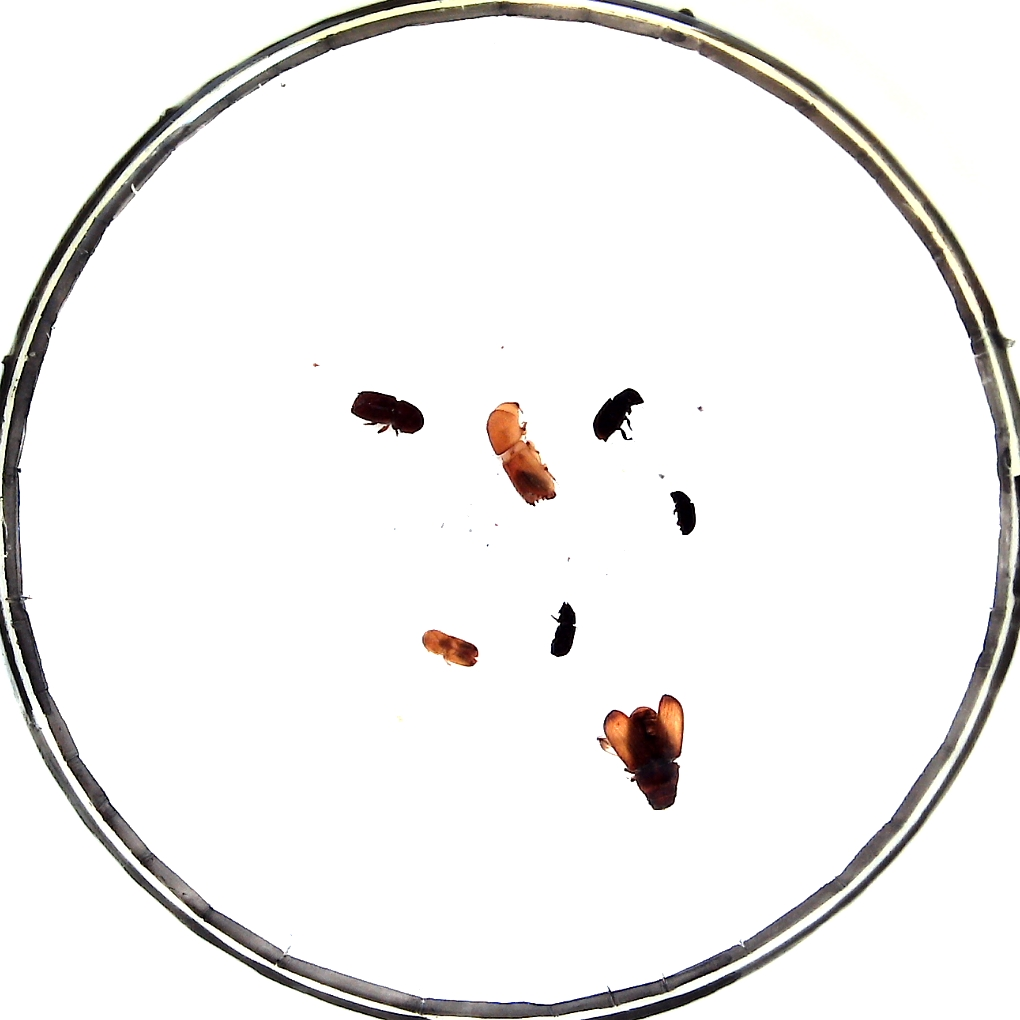Boerner: (486, 400, 555, 506)
Leconte: (602, 693, 687, 815)
Linnaeus: (350, 387, 425, 437)
acuminatus: (422, 625, 478, 669)
armandi: (593, 384, 641, 445)
coleoptera: (667, 485, 698, 534), (550, 603, 576, 655)
